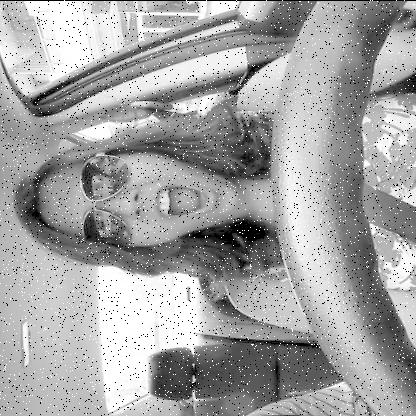seatbelt: (2, 100, 416, 278)
